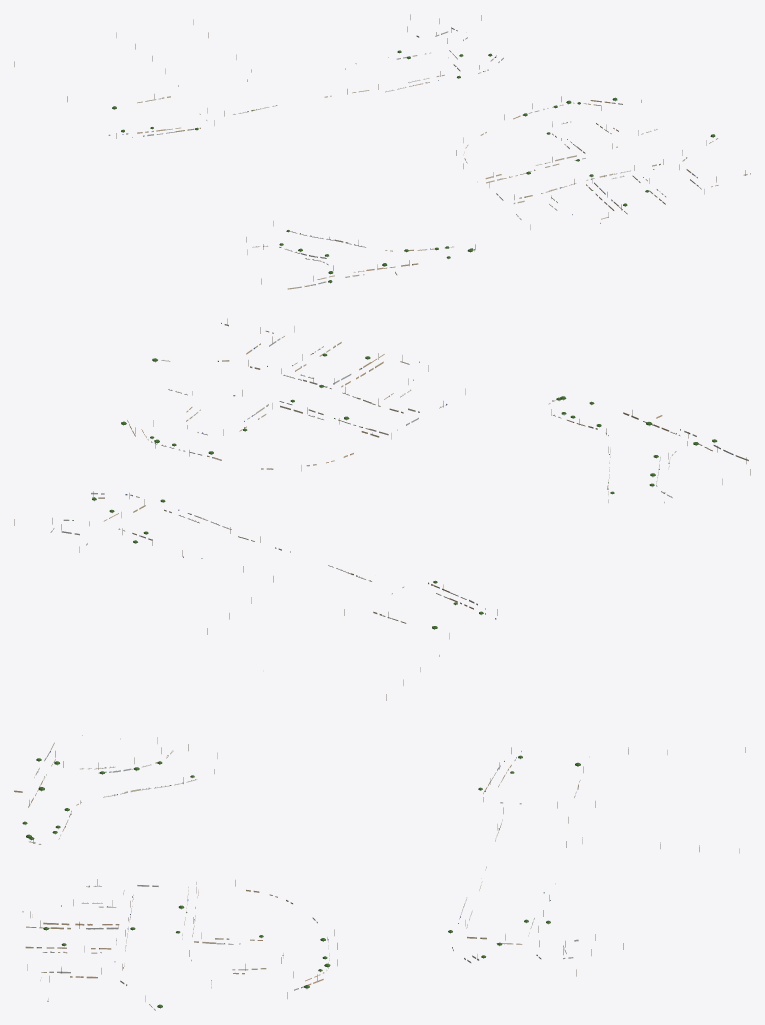
The model's file is nd_stm_m8_m7.glb.
3 views of the same model, one above another, from view 1: azimuth 30°, elevation 25°; view 2: azimuth 150°, elevation 25°; view 3: azimuth 270°, elevation 25° (orthographic). The views are drawn at different scales.
Parts seen in each view (by area): view 1: nd_stm_m8_m7_lod0; view 2: nd_stm_m8_m7_lod0; view 3: nd_stm_m8_m7_lod0.
Part boxes in pixels (box(x1,y1,x2,y2)): nd_stm_m8_m7_lod0: box(14, 14, 750, 289); nd_stm_m8_m7_lod0: box(14, 318, 750, 700); nd_stm_m8_m7_lod0: box(14, 735, 745, 1010).
Size of what is drawn, in the model's own units: 708 by 19.27 by 789.
